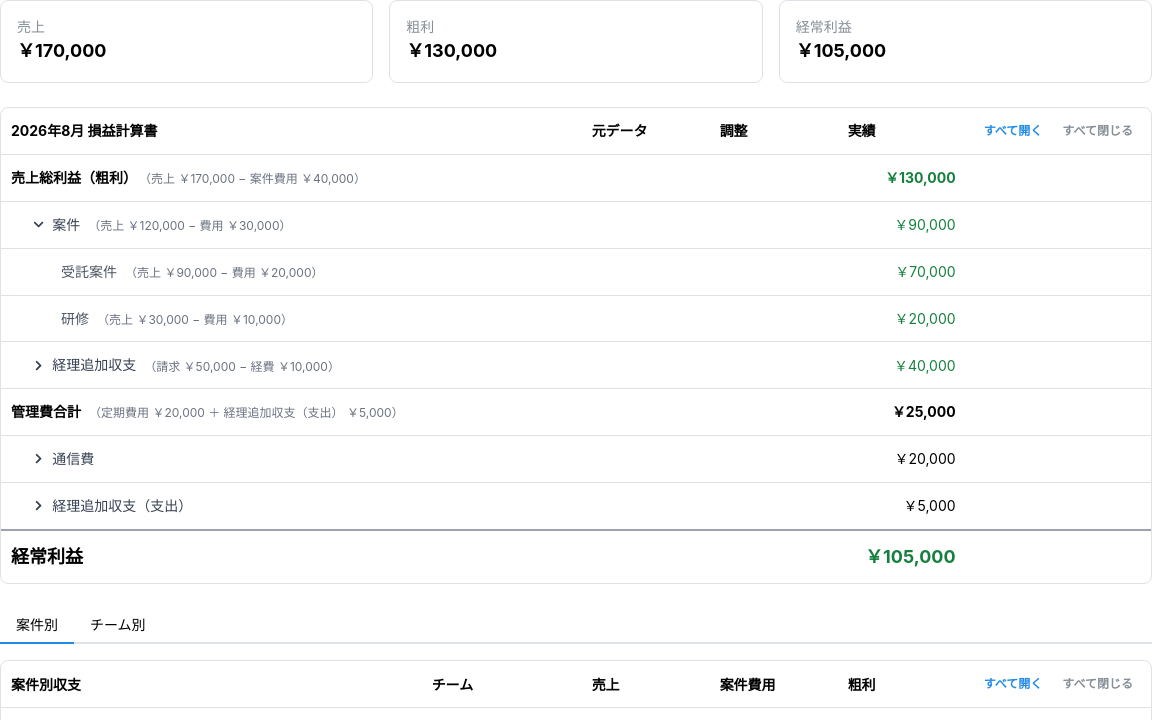
Test case: ProfitLossStatement のサマリーカードと損益計算書（Issue #164） › 「すべて開く」「すべて閉じる」で損益計算書の内訳をまとめて開閉する: テーブル上部（モバイル）
Check: the text "回線" is not shown
Click the button with aria-label "損益計算書の内訳をすべて開く" at (1013, 131), box top-left (976, 120), bottom-right (1050, 142)
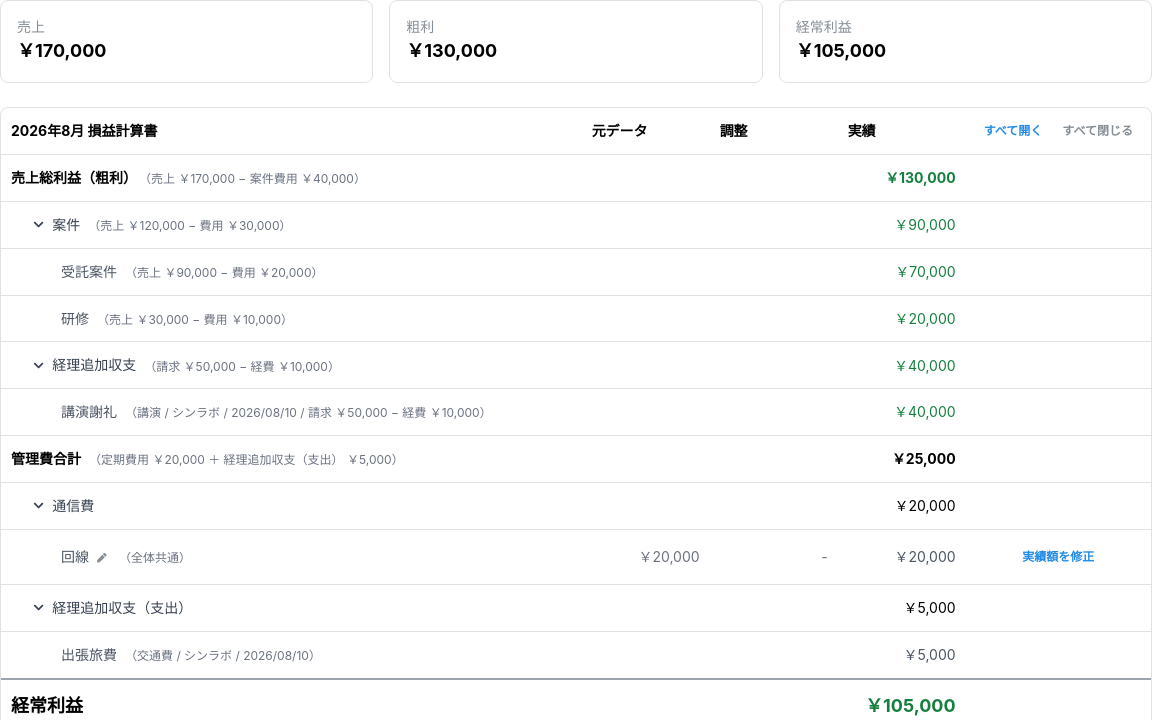
Check: the text "回線" is shown, box top-left (61, 548), bottom-right (89, 565)
Check: the text "講演謝礼" is shown, box top-left (61, 403), bottom-right (117, 420)
Check: the text "出張旅費" is shown, box top-left (61, 646), bottom-right (117, 663)
Click the button with aria-label "損益計算書の内訳をすべて閉じる" at (1098, 131), box top-left (1054, 120), bottom-right (1141, 142)
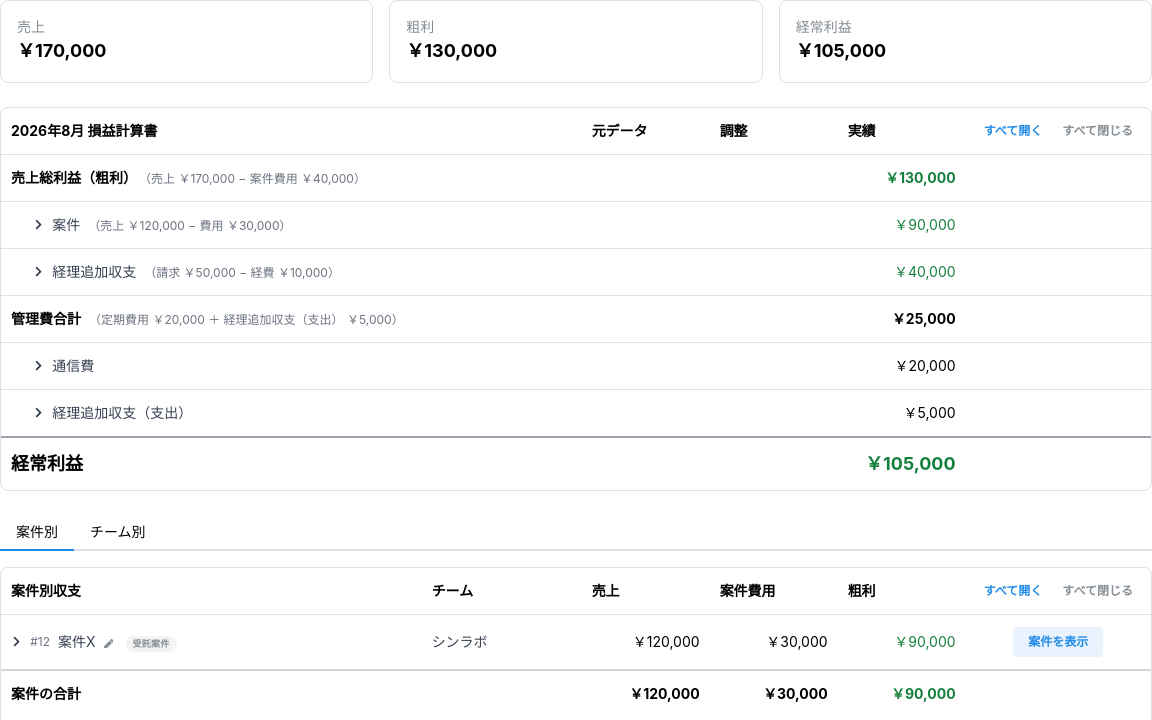
Check: the text "回線" is gone
Check: the text "講演謝礼" is gone
Check: the text "出張旅費" is gone
